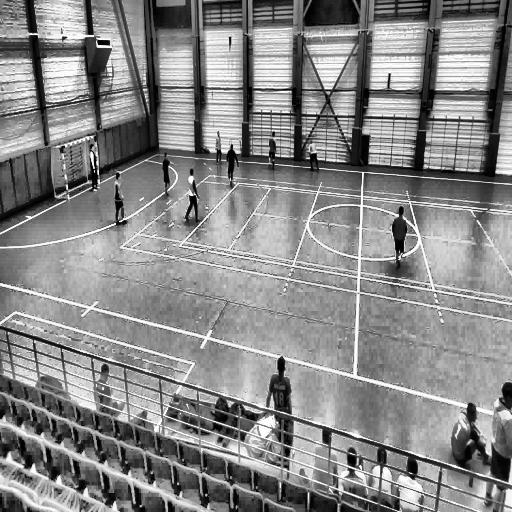player: (488, 383, 512, 506), (184, 166, 202, 224), (393, 204, 407, 271), (114, 173, 127, 225), (226, 142, 240, 190), (88, 143, 101, 191), (162, 152, 172, 198), (307, 138, 319, 172), (268, 132, 278, 172), (214, 131, 222, 166)
